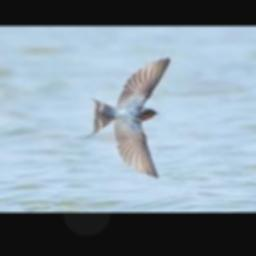Swallow: (80, 57, 169, 178)
